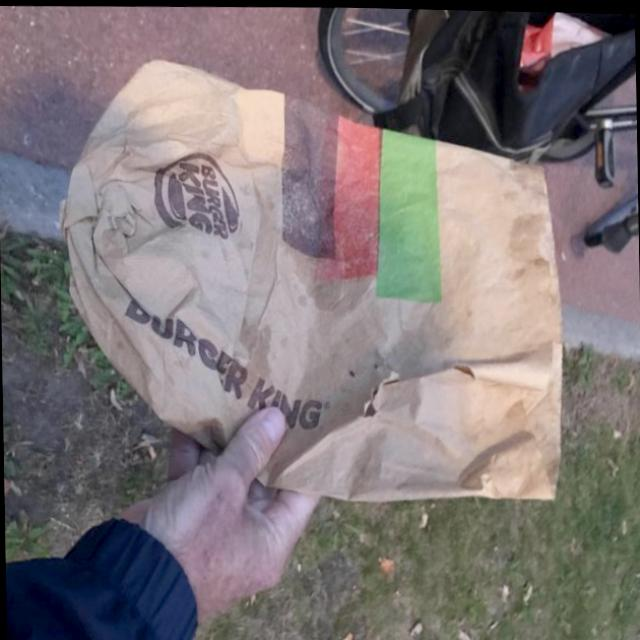Paper: (48, 44, 566, 513)
